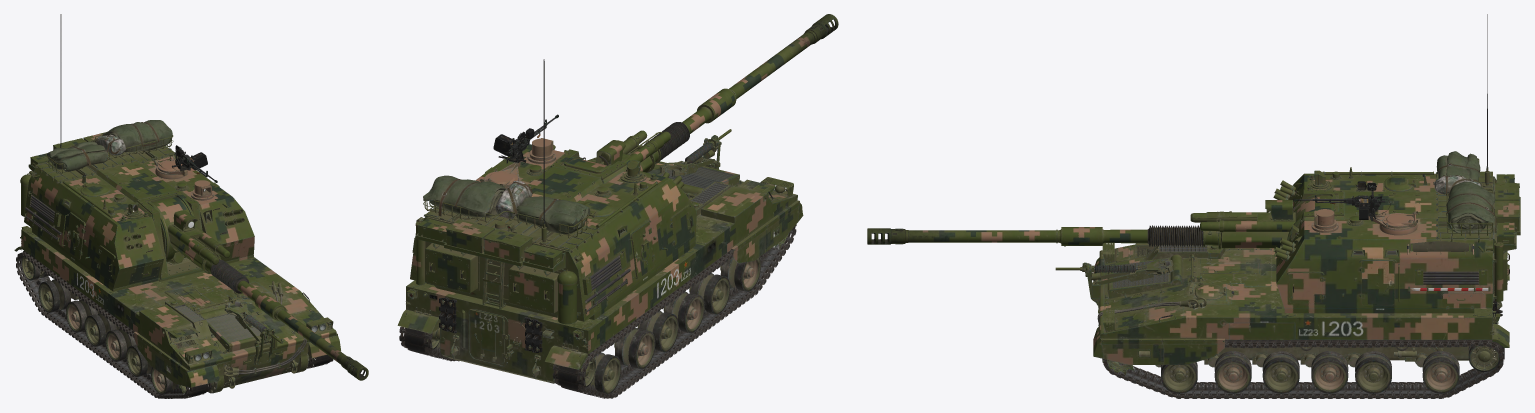
The model's file is plz05.glb.
The picture shows the model from 3 angles, left to right: view 1: azimuth 30°, elevation 25°; view 2: azimuth 150°, elevation 25°; view 3: azimuth 270°, elevation 25°; orthographic projection. The views are drawn at different scales.
Visible parts, largest first — view 1: Object_32, Object_18, Object_25, Object_15, Object_30, Object_19, Object_5, Object_22, Object_34, Object_21, Object_33, Object_17 (+5 smaller); view 2: Object_32, Object_18, Object_30, Object_15, Object_34, Object_19, Object_5, Object_25, Object_33, Object_22, Object_17, Object_35 (+7 smaller); view 3: Object_32, Object_18, Object_25, Object_13, Object_8, Object_34, Object_22, Object_19, Object_31, Object_21, Object_17, Object_30 (+5 smaller).
Part boxes in pixels (x1=…): Object_32: x1=24, y1=144, x2=254, y2=291; Object_18: x1=21, y1=227, x2=336, y2=393; Object_25: x1=152, y1=197, x2=368, y2=380; Object_15: x1=38, y1=279, x2=180, y2=394; Object_30: x1=20, y1=138, x2=114, y2=280; Object_19: x1=14, y1=246, x2=340, y2=388; Object_5: x1=16, y1=251, x2=211, y2=398; Object_22: x1=172, y1=283, x2=326, y2=354; Object_34: x1=62, y1=120, x2=177, y2=218; Object_21: x1=179, y1=300, x2=282, y2=365; Object_33: x1=34, y1=134, x2=212, y2=265; Object_17: x1=20, y1=226, x2=309, y2=393; Object_32: x1=410, y1=144, x2=696, y2=321; Object_18: x1=406, y1=158, x2=797, y2=383; Object_30: x1=483, y1=196, x2=691, y2=324; Object_15: x1=590, y1=257, x2=761, y2=394; Object_34: x1=412, y1=160, x2=658, y2=313; Object_19: x1=397, y1=177, x2=803, y2=369; Object_5: x1=552, y1=224, x2=796, y2=398; Object_25: x1=568, y1=14, x2=838, y2=172; Object_33: x1=423, y1=138, x2=646, y2=319; Object_22: x1=471, y1=157, x2=742, y2=363; Object_17: x1=405, y1=157, x2=773, y2=378; Object_35: x1=417, y1=218, x2=495, y2=253; Object_32: x1=1273, y1=166, x2=1520, y2=313; Object_18: x1=1092, y1=244, x2=1501, y2=364; Object_25: x1=867, y1=195, x2=1396, y2=254; Object_13: x1=1161, y1=346, x2=1459, y2=393; Object_8: x1=1102, y1=340, x2=1504, y2=398; Object_34: x1=1311, y1=170, x2=1503, y2=301; Object_22: x1=1107, y1=254, x2=1494, y2=367; Object_19: x1=1093, y1=243, x2=1509, y2=364; Object_31: x1=1289, y1=175, x2=1493, y2=308; Object_21: x1=1055, y1=246, x2=1173, y2=312; Object_17: x1=1096, y1=246, x2=1502, y2=364; Object_30: x1=1436, y1=151, x2=1519, y2=200.
Bounding box in the file's own units: 3.32 × 5.81 × 10.62.
17 materials, 17 textured.
